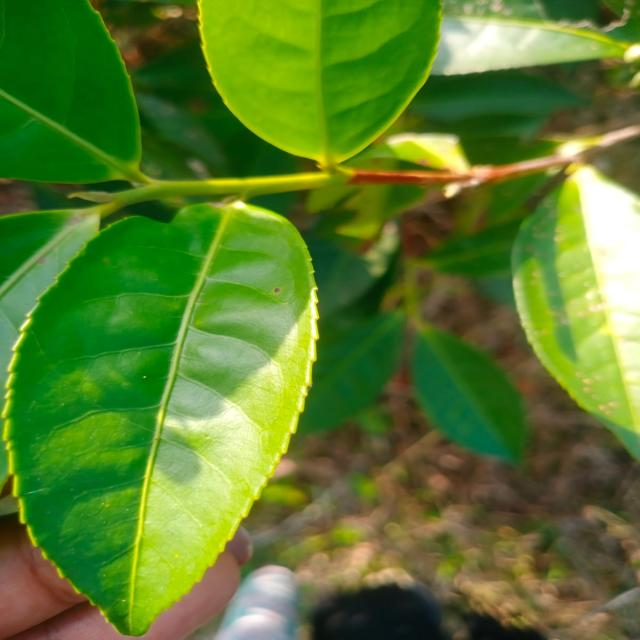Category D(7+ days, Not for Tea): (7, 185, 332, 640)
